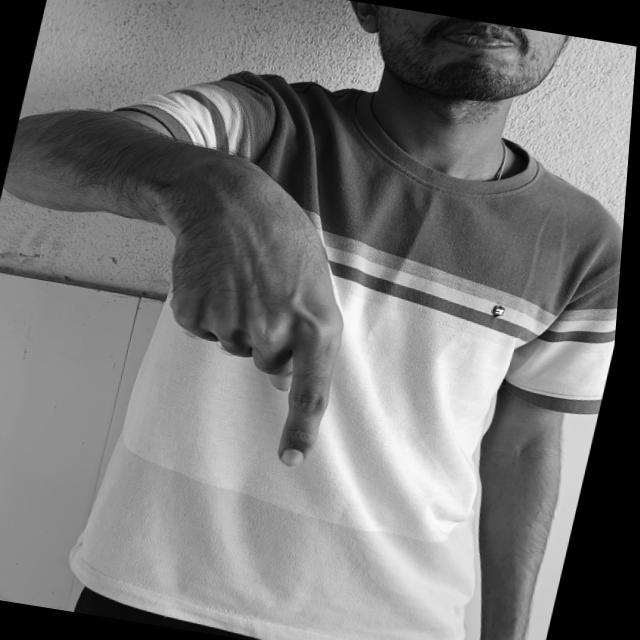Now: (28, 118, 449, 500)
